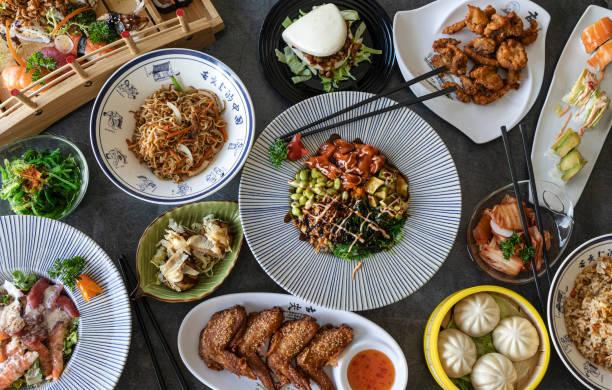Braised Crucian Carp: (238, 86, 454, 309), (89, 48, 250, 204), (394, 0, 550, 146), (176, 291, 399, 387), (529, 1, 609, 215), (256, 0, 395, 103), (422, 283, 550, 389)
